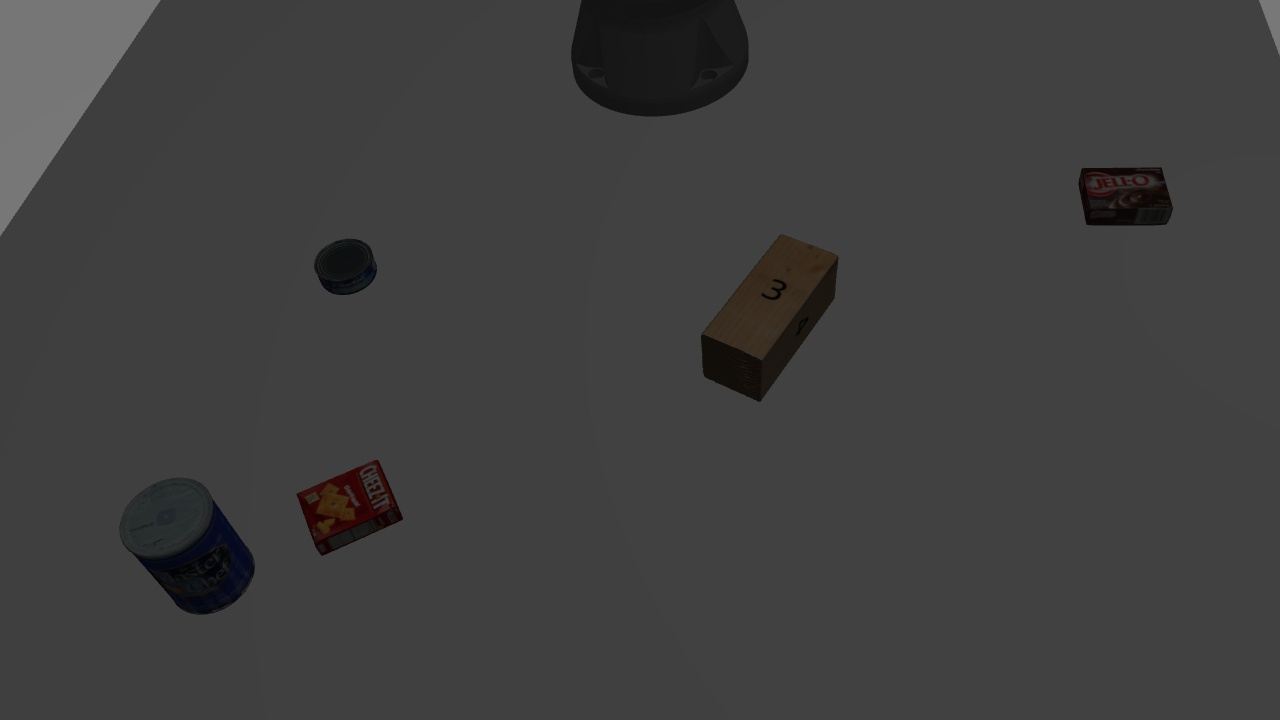cracker_box: (291, 454, 406, 559)
master_chef_can: (114, 477, 258, 621)
pudding_box: (1075, 162, 1175, 228)
tuna_fish_can: (309, 238, 380, 293)
wood_block: (671, 229, 839, 403)
